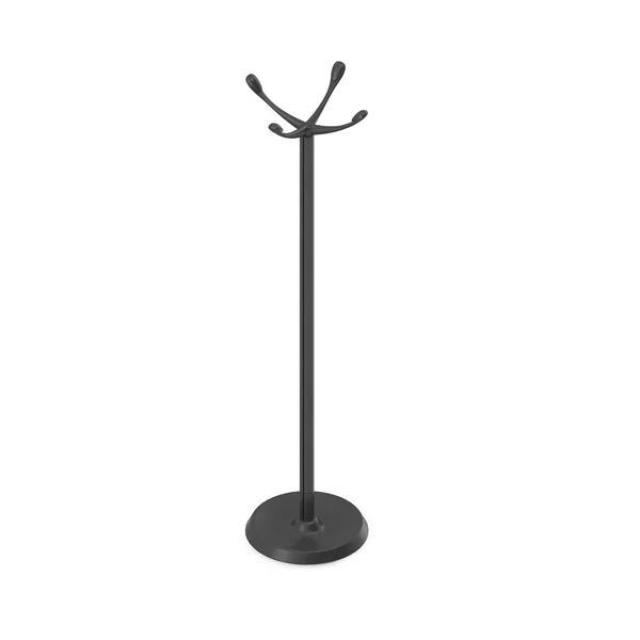Pole: (246, 61, 369, 565)
